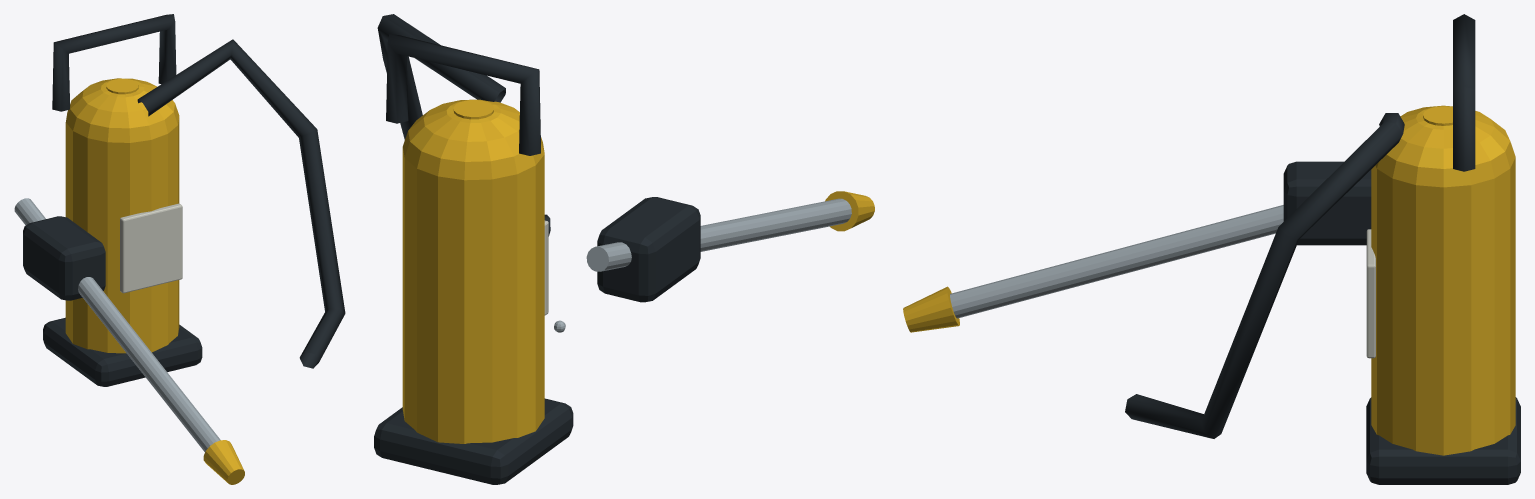
Rendered from power-washer.glb.
The picture shows the model from 3 angles, left to right: view 1: azimuth 30°, elevation 25°; view 2: azimuth 150°, elevation 25°; view 3: azimuth 270°, elevation 25°; orthographic projection. The views are drawn at different scales.
Visible parts, largest first — view 1: pressure vessel; view 2: pressure vessel; view 3: pressure vessel.
Part boxes in pixels (x1,y1,x2,y2): pressure vessel: (14,14,345,484); pressure vessel: (374,14,874,484); pressure vessel: (903,14,1520,484).
Bounding box in the file's own units: 0.7176 × 0.8702 × 1.2.
